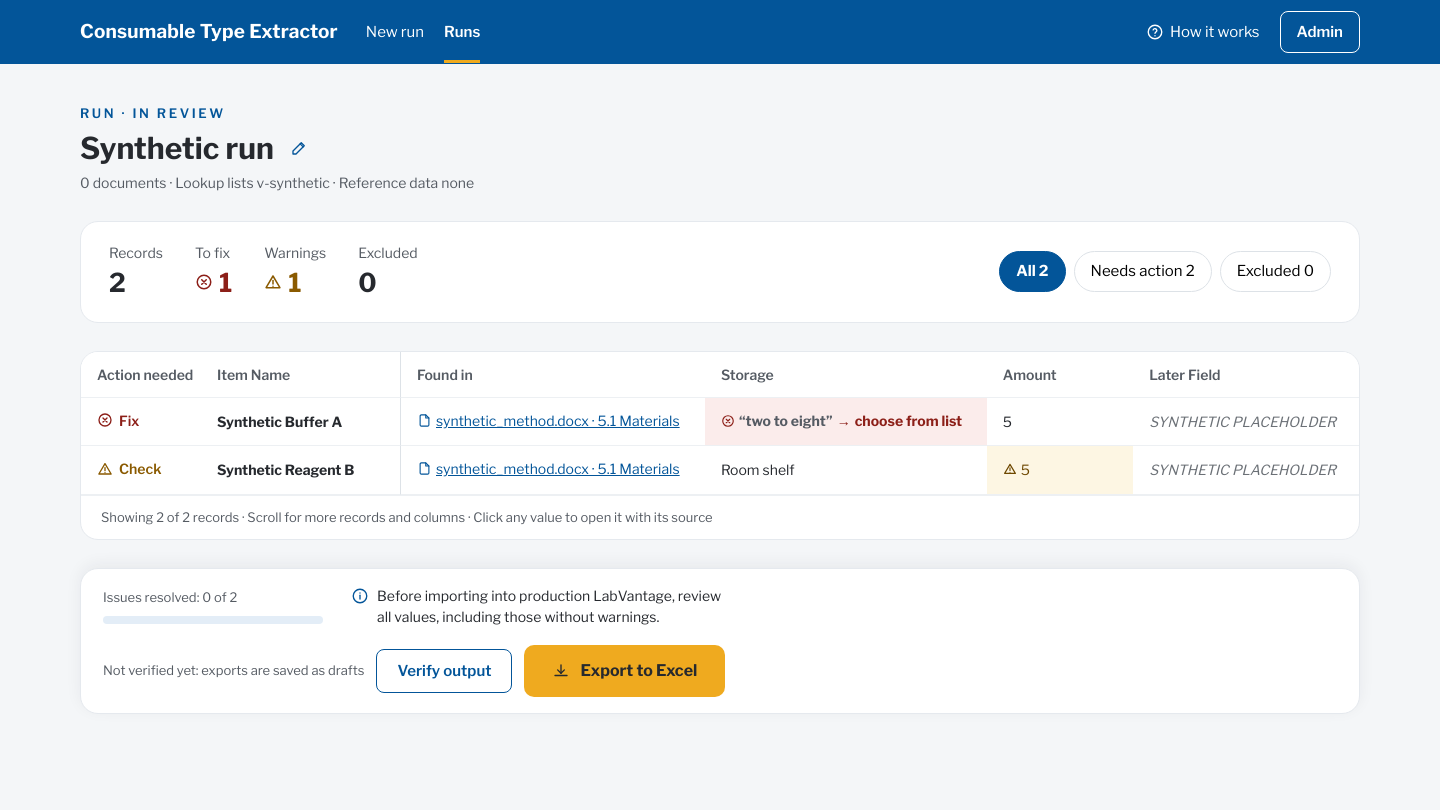
Test: Source viewer › highlights the quoted passage of a text chunk
Step 1. Click the button "synthetic_method.docx · 5.1 Materials" in the row of "Check" → (548, 469), box [417,458,680,479]
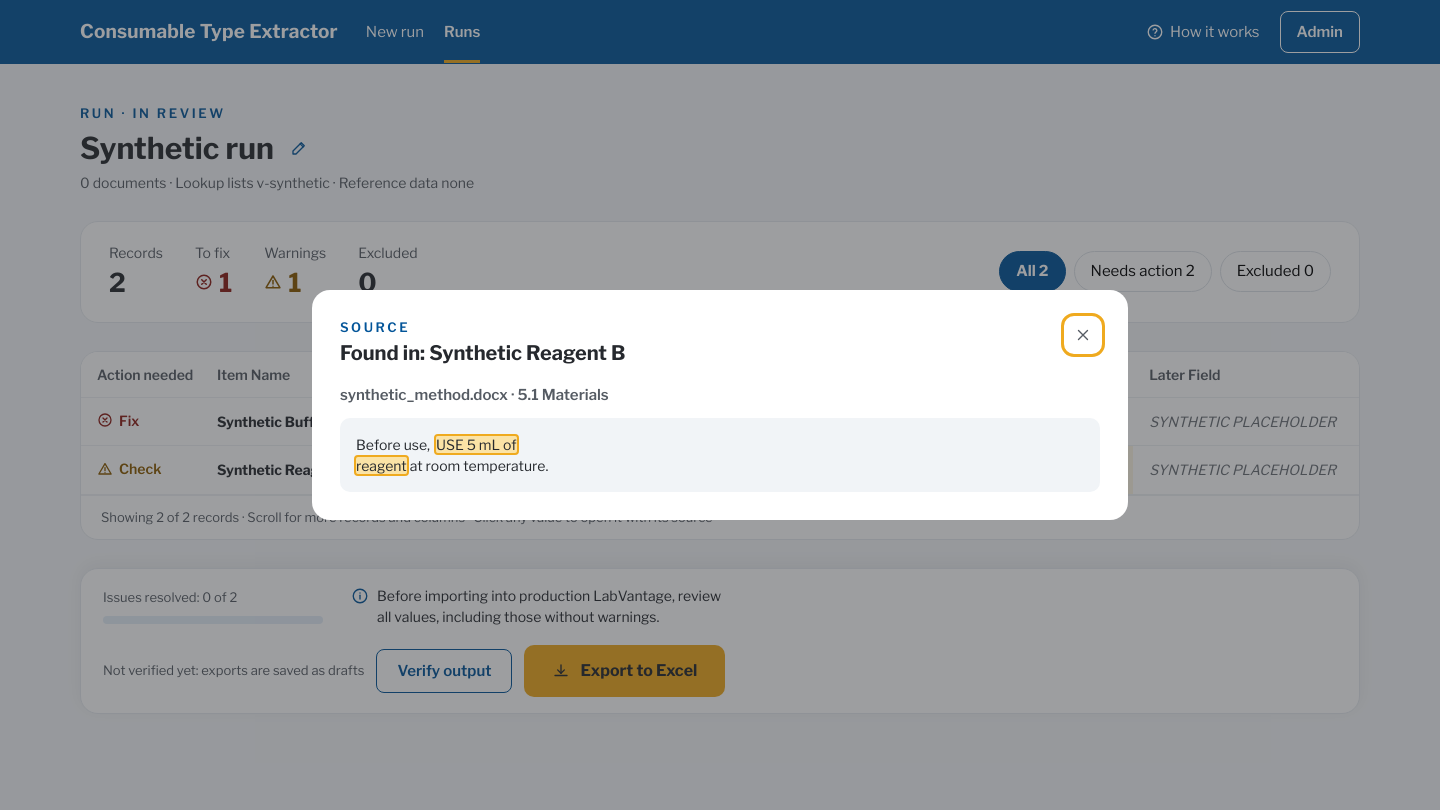
Check: the element with test id "source-text" is shown, box [340,418,1100,492]
